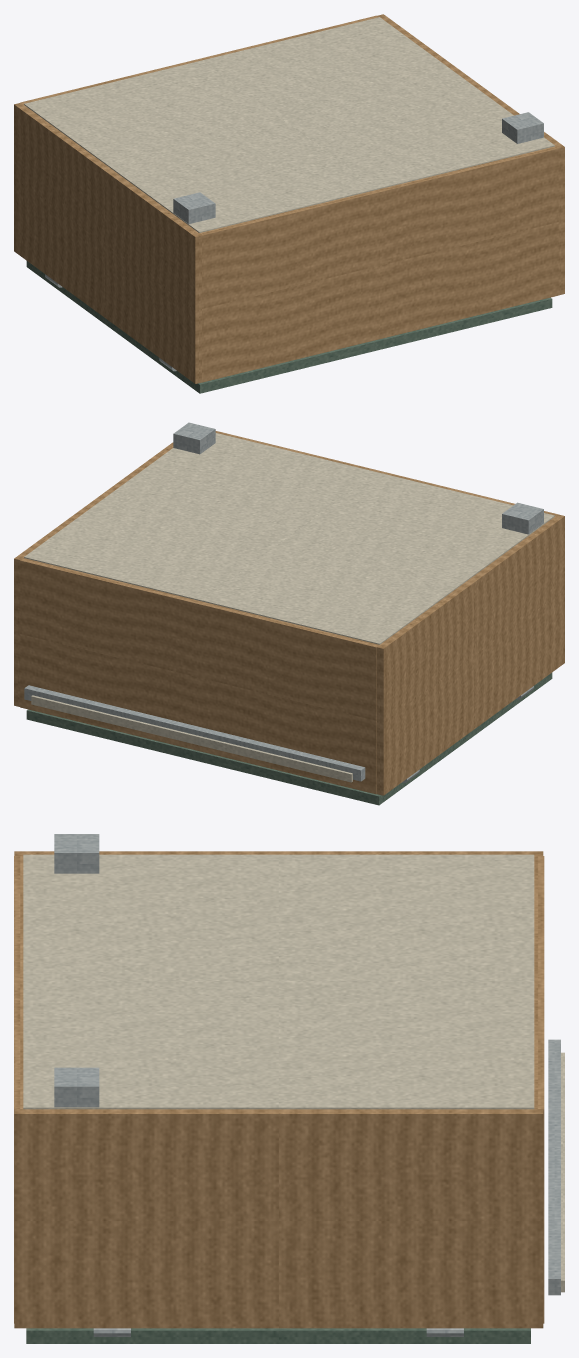
File: PROJECT_Z_Kitchen_UpperStorage900_Prefab.glb
The picture shows the model from 3 angles, top to bottom: view 1: azimuth 30°, elevation 25°; view 2: azimuth 150°, elevation 25°; view 3: azimuth 270°, elevation 25°; orthographic projection. The views are drawn at different scales.
Parts seen in each view (by area): view 1: UPPER_STORAGE_900_UpperBack, UPPER_STORAGE_900_UpperTop, UPPER_STORAGE_900_UpperSide_L, UPPER_STORAGE_900_Left_DoorLeaf, UPPER_STORAGE_900_UpperSide_R, UPPER_STORAGE_900_Right_DoorLeaf, UPPER_STORAGE_900_UpperBottom, UPPER_STORAGE_900_WallMountBracket_L, UPPER_STORAGE_900_WallMountBracket_R; view 2: UPPER_STORAGE_900_UpperBack, UPPER_STORAGE_900_UpperBottom, UPPER_STORAGE_900_UpperSide_L, UPPER_STORAGE_900_UnderCabinetAluminiumLight, UPPER_STORAGE_900_UnderCabinetLEDLens, UPPER_STORAGE_900_Left_DoorLeaf, UPPER_STORAGE_900_UpperSide_R, UPPER_STORAGE_900_Right_DoorLeaf, UPPER_STORAGE_900_WallMountBracket_R, UPPER_STORAGE_900_WallMountBracket_L, UPPER_STORAGE_900_UpperTop; view 3: UPPER_STORAGE_900_UpperBack, UPPER_STORAGE_900_UpperSide_R, UPPER_STORAGE_900_Right_DoorLeaf, UPPER_STORAGE_900_UnderCabinetAluminiumLight, UPPER_STORAGE_900_UpperBottom, UPPER_STORAGE_900_UpperTop, UPPER_STORAGE_900_UpperSide_L, UPPER_STORAGE_900_WallMountBracket_R, UPPER_STORAGE_900_WallMountBracket_L, UPPER_STORAGE_900_UnderCabinetLEDLens.
Boxes of the visible parts, bbox=[...] form: UPPER_STORAGE_900_UpperBack: bbox=[24, 17, 554, 232]; UPPER_STORAGE_900_UpperTop: bbox=[200, 146, 558, 382]; UPPER_STORAGE_900_UpperSide_L: bbox=[14, 103, 202, 383]; UPPER_STORAGE_900_Left_DoorLeaf: bbox=[26, 261, 376, 393]; UPPER_STORAGE_900_UpperSide_R: bbox=[376, 14, 564, 295]; UPPER_STORAGE_900_Right_DoorLeaf: bbox=[373, 297, 552, 350]; UPPER_STORAGE_900_UpperBottom: bbox=[20, 15, 377, 105]; UPPER_STORAGE_900_WallMountBracket_L: bbox=[173, 192, 215, 223]; UPPER_STORAGE_900_WallMountBracket_R: bbox=[502, 112, 543, 143]; UPPER_STORAGE_900_UpperBack: bbox=[24, 433, 554, 644]; UPPER_STORAGE_900_UpperBottom: bbox=[20, 558, 379, 794]; UPPER_STORAGE_900_UpperSide_L: bbox=[377, 514, 564, 795]; UPPER_STORAGE_900_UnderCabinetAluminiumLight: bbox=[24, 685, 365, 781]; UPPER_STORAGE_900_UnderCabinetLEDLens: bbox=[31, 695, 352, 782]; UPPER_STORAGE_900_Left_DoorLeaf: bbox=[201, 672, 552, 805]; UPPER_STORAGE_900_UpperSide_R: bbox=[14, 442, 173, 706]; UPPER_STORAGE_900_Right_DoorLeaf: bbox=[26, 709, 204, 761]; UPPER_STORAGE_900_WallMountBracket_R: bbox=[173, 422, 215, 454]; UPPER_STORAGE_900_WallMountBracket_L: bbox=[502, 502, 543, 534]; UPPER_STORAGE_900_UpperTop: bbox=[215, 431, 558, 516]; UPPER_STORAGE_900_UpperBack: bbox=[23, 854, 534, 1109]; UPPER_STORAGE_900_UpperSide_R: bbox=[14, 1109, 543, 1328]; UPPER_STORAGE_900_Right_DoorLeaf: bbox=[26, 1328, 530, 1343]; UPPER_STORAGE_900_UnderCabinetAluminiumLight: bbox=[548, 1039, 560, 1295]; UPPER_STORAGE_900_UpperBottom: bbox=[534, 856, 544, 1323]; UPPER_STORAGE_900_UpperTop: bbox=[14, 856, 23, 1323]; UPPER_STORAGE_900_UpperSide_L: bbox=[14, 851, 543, 856]; UPPER_STORAGE_900_WallMountBracket_R: bbox=[54, 1067, 99, 1107]; UPPER_STORAGE_900_WallMountBracket_L: bbox=[54, 834, 99, 873]; UPPER_STORAGE_900_UnderCabinetLEDLens: bbox=[561, 1052, 564, 1292].
Bounding box in the file's own units: 0.9 × 0.4695 × 0.797.
5 materials, 5 textured.
